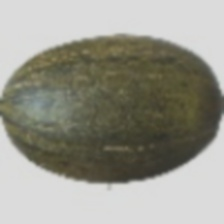honeydew: (40, 58, 217, 202)
